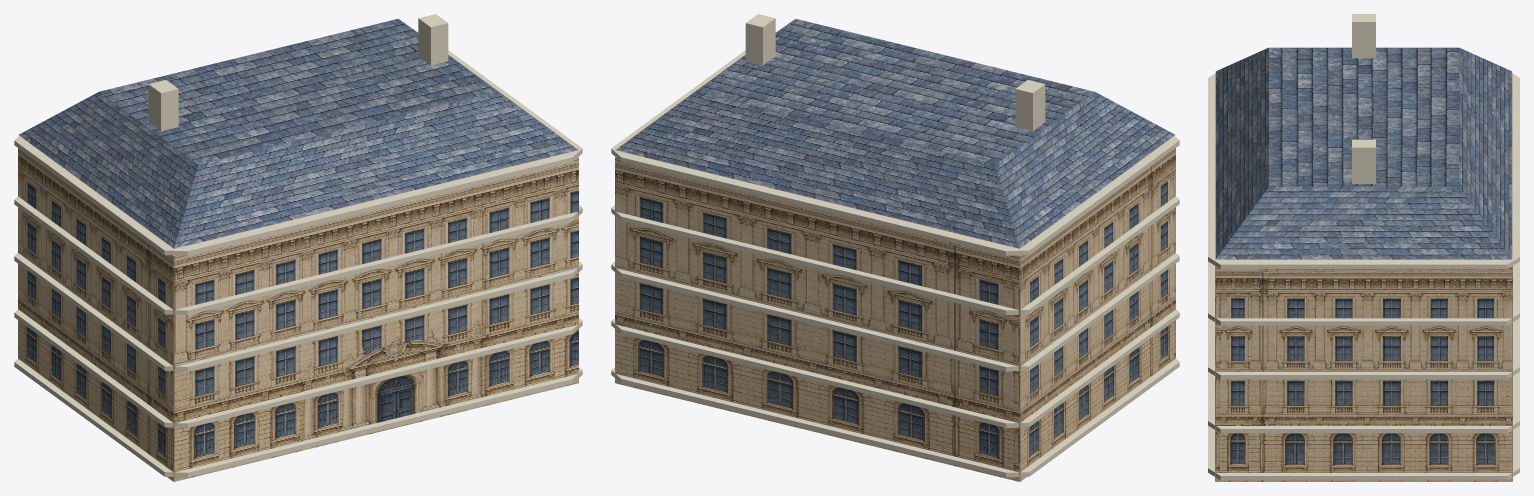
Rendered from heritage-lod1.glb.
The picture shows the model from 3 angles, left to right: view 1: azimuth 30°, elevation 25°; view 2: azimuth 150°, elevation 25°; view 3: azimuth 270°, elevation 25°; orthographic projection. The views are drawn at different scales.
Visible parts, largest first — view 1: heritage_architecture; view 2: heritage_architecture; view 3: heritage_architecture.
Boxes of the visible parts, x1=… form: heritage_architecture: x1=14, y1=14, x2=582, y2=481; heritage_architecture: x1=611, y1=14, x2=1179, y2=481; heritage_architecture: x1=1208, y1=14, x2=1519, y2=481.
Bounding box in the file's own units: 15.5 × 11.4 × 10.5.
Materials: 4 (3 with a texture image).
